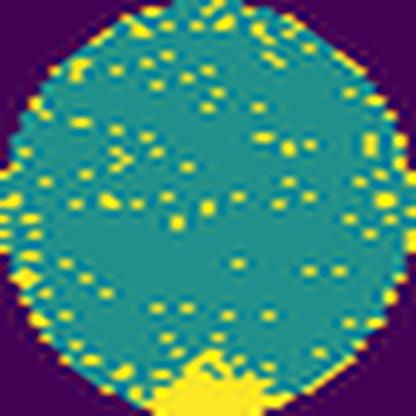Edge-Loc: (142, 348, 295, 416)
